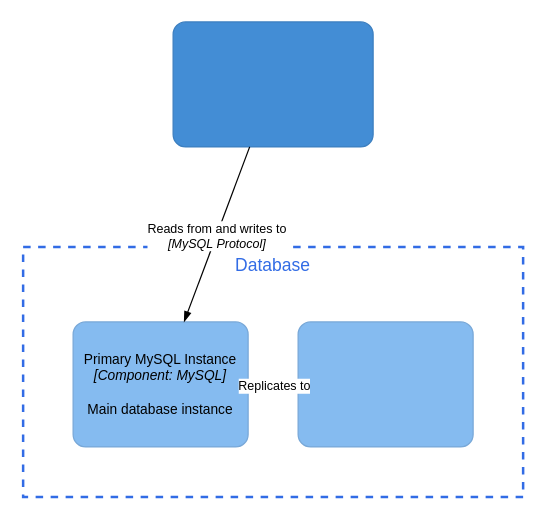
Some shapes in this 545 by 520 pixel diagram are drawn without their labels. The box of each missing label's shape, as (x1, y1, x2, y2) in pixels:
ECS Service [Container: AWS ECS] Application containers: (172, 21, 373, 147)
Replica MySQL Instance [Component: MySQL] Read replica database: (297, 321, 473, 447)
